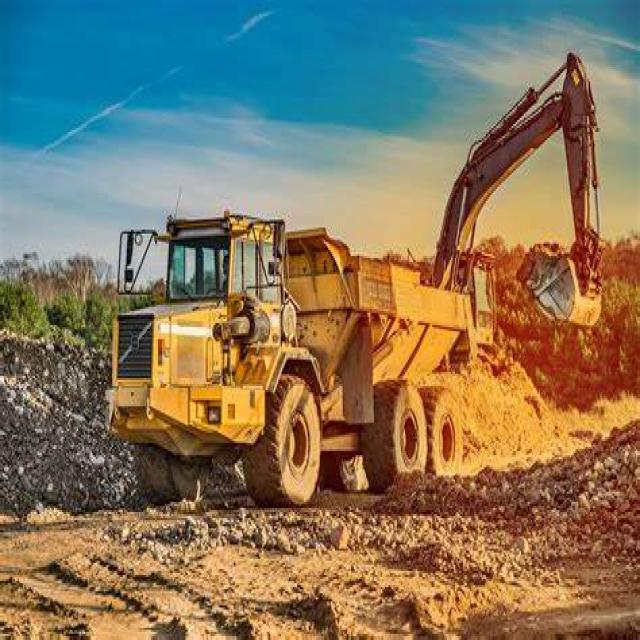dump_truck: (80, 181, 513, 520)
